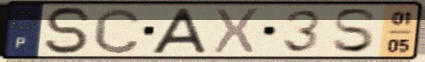3: (282, 9, 323, 53)
A: (148, 6, 210, 55)
C: (90, 6, 143, 56)
S: (43, 5, 96, 57), (329, 7, 381, 56)
X: (211, 6, 263, 56)
